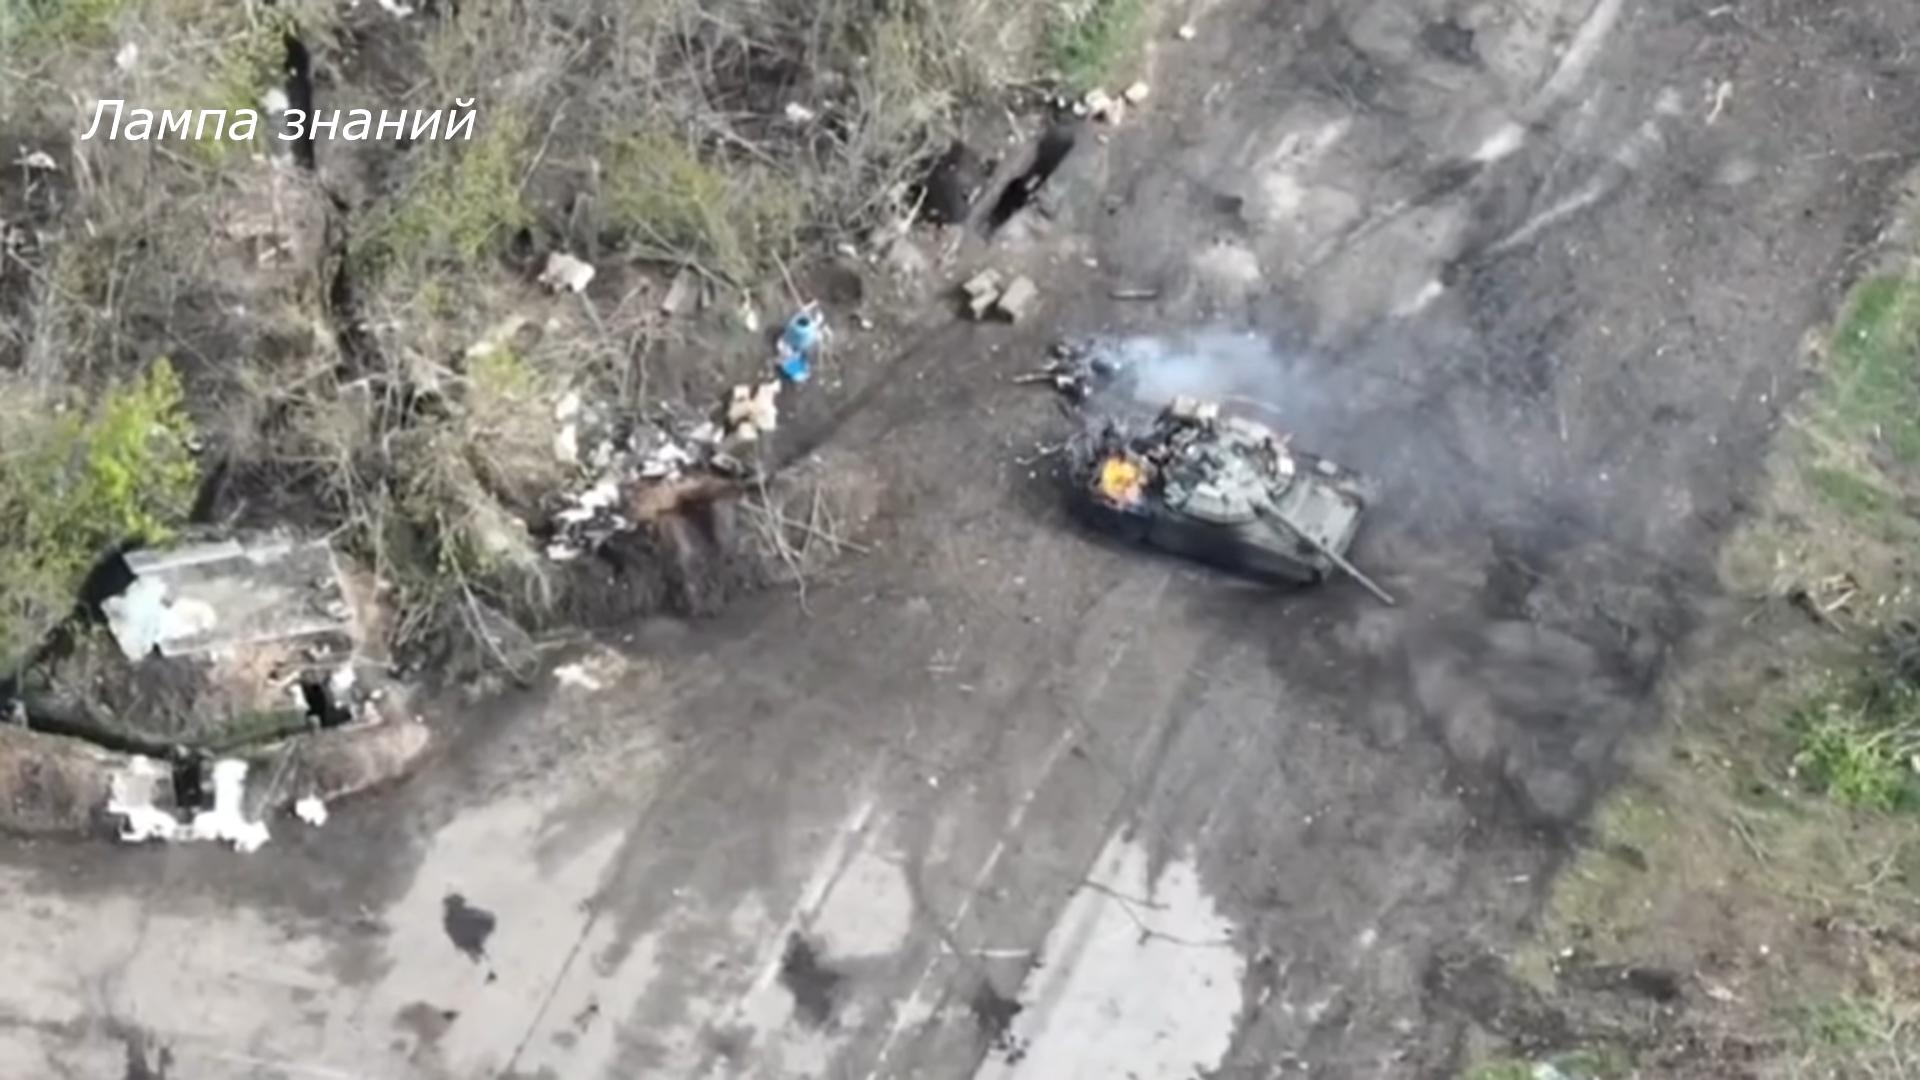tank: (1077, 396, 1396, 605)
